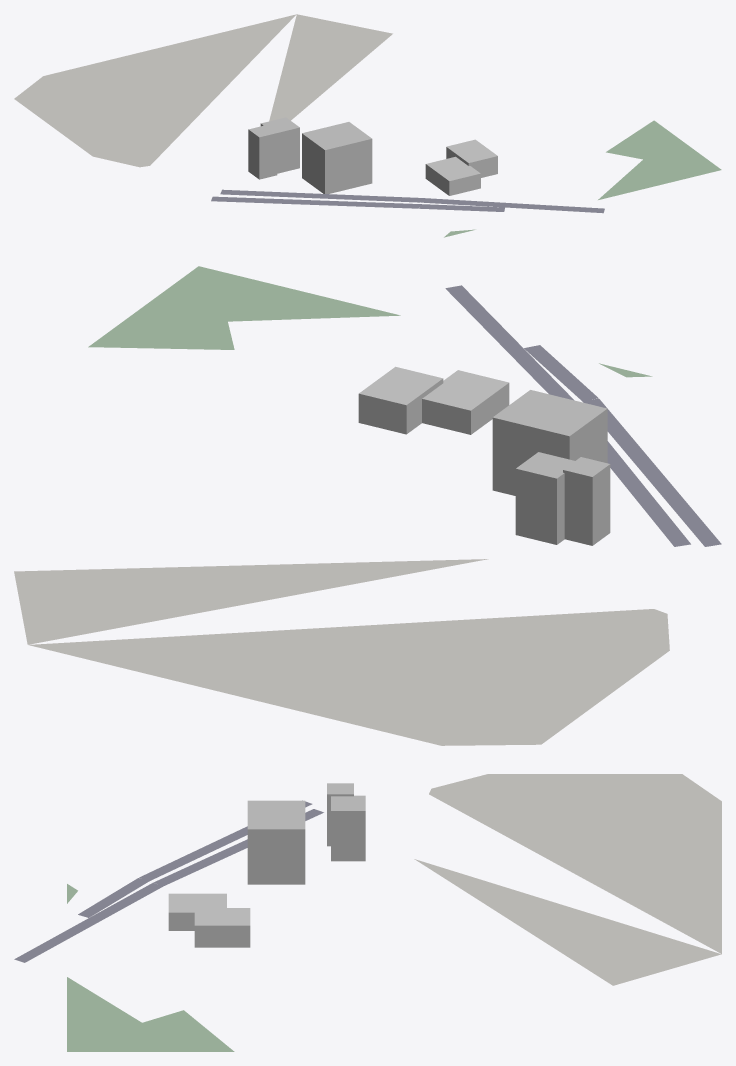
Rendered from 129_126_mid.glb.
The picture shows the model from 3 angles, top to bottom: view 1: azimuth 30°, elevation 25°; view 2: azimuth 150°, elevation 25°; view 3: azimuth 270°, elevation 25°; orthographic projection. The views are drawn at different scales.
Bounding box in the file's own units: 500 × 47.06 × 541.
